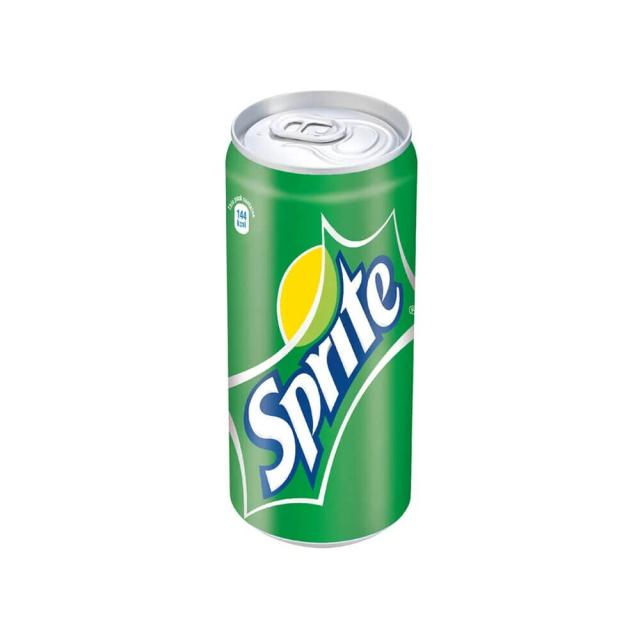sprite: (182, 89, 420, 567)
